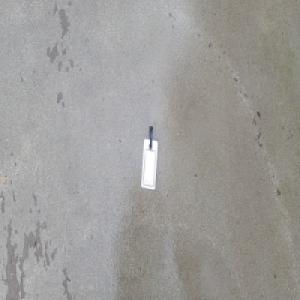LuggageTag: (140, 124, 159, 192)
